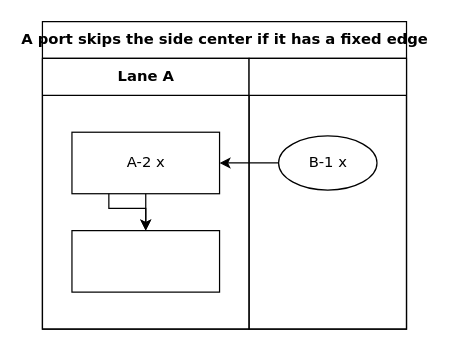
Image size: 449x351. Some labels were removed from this diagram. The shapes that lost their labels are listed below. From the top down, each one's box as (x1, y1, x2, y2) in pixels, then its label:
(248, 57, 407, 329): Lane B
(71, 229, 220, 292): A-3 x
